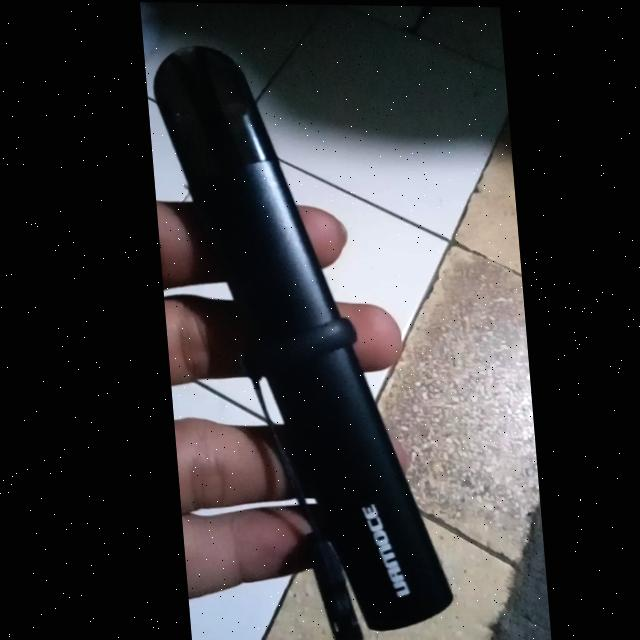vape: (148, 44, 449, 633)
